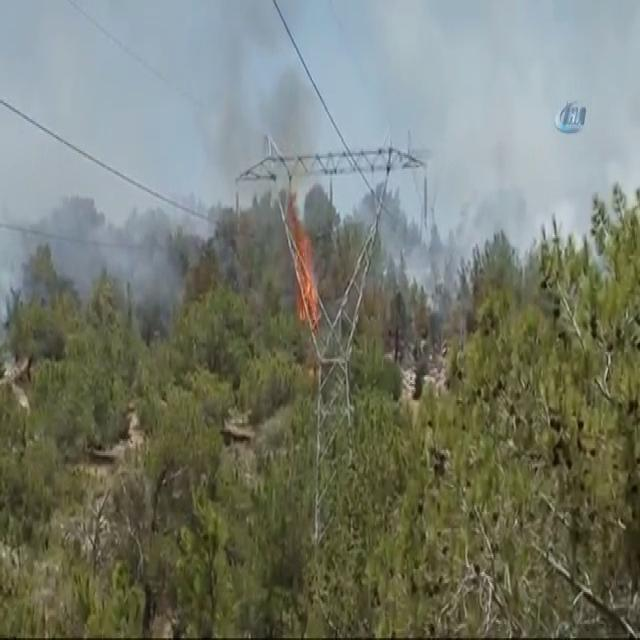Fire: (294, 210, 322, 324)
Smoke: (189, 4, 537, 187), (408, 0, 640, 257), (0, 128, 181, 334)
